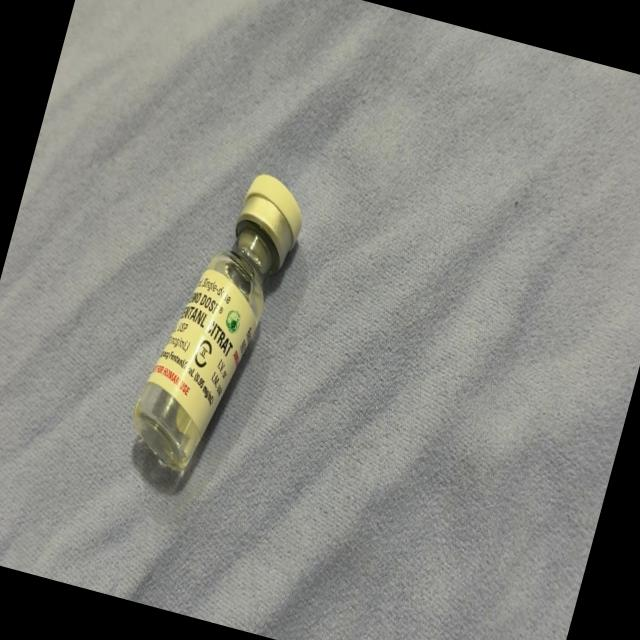fentanl_citrat: (122, 162, 309, 486)
